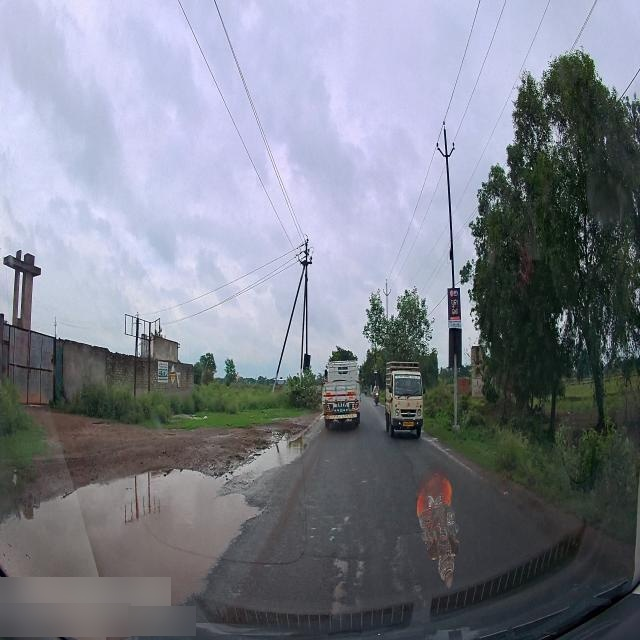pothole: (2, 468, 255, 584), (244, 433, 312, 476)
